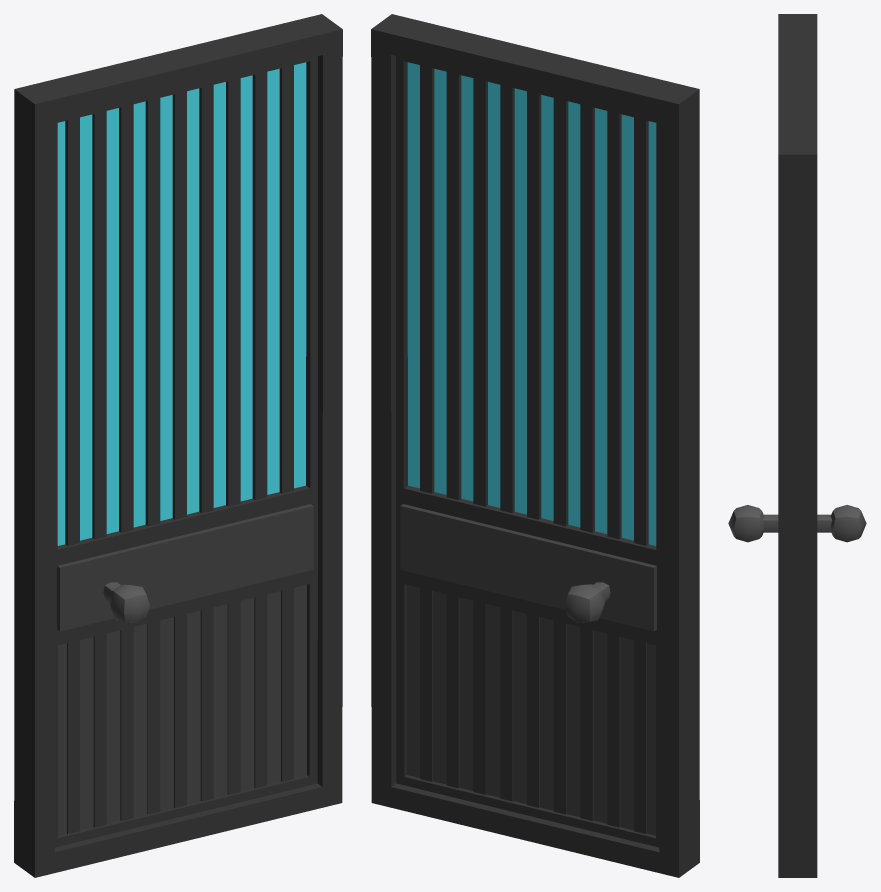
The model's file is SM_Buildings_Office_09_Door_R.fbx.
The picture shows the model from 3 angles, left to right: view 1: azimuth 30°, elevation 25°; view 2: azimuth 150°, elevation 25°; view 3: azimuth 270°, elevation 25°; orthographic projection. The views are drawn at different scales.
Parts seen in each view (by area): view 1: SM_Buildings_Office_09_Door_R; view 2: SM_Buildings_Office_09_Door_R; view 3: SM_Buildings_Office_09_Door_R.
Boxes of the visible parts, x1,y1,x2,y2 form: SM_Buildings_Office_09_Door_R: (14,14,342,877); SM_Buildings_Office_09_Door_R: (371,14,699,877); SM_Buildings_Office_09_Door_R: (728,14,866,877).
Size of the model in its own units: 1.09 by 2.62 by 0.4537.
